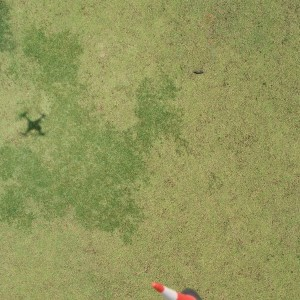traffic cone: (149, 281, 202, 300)
